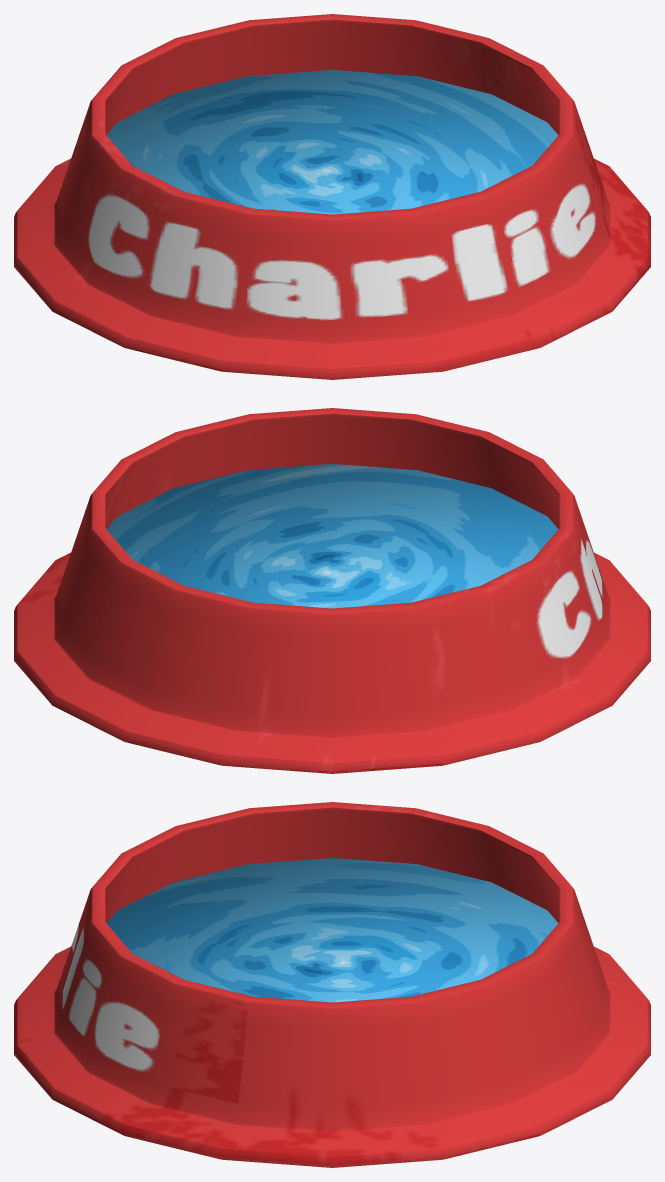
Rendered from Dog_Bowl.fbx.
3 views of the same model, one above another, from view 1: azimuth 30°, elevation 25°; view 2: azimuth 150°, elevation 25°; view 3: azimuth 270°, elevation 25° (orthographic).
Parts seen in each view (by area): view 1: DogBowl; view 2: DogBowl; view 3: DogBowl.
Boxes of the visible parts, x1=… form: DogBowl: x1=14, y1=14, x2=650, y2=379; DogBowl: x1=14, y1=408, x2=650, y2=773; DogBowl: x1=14, y1=802, x2=650, y2=1167.
Bounding box in the file's own units: 86.84 × 18.94 × 85.52.
3 materials, 3 textured.
